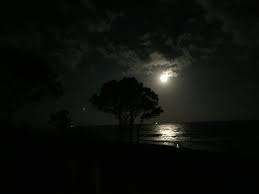moon: (160, 73, 168, 83)
